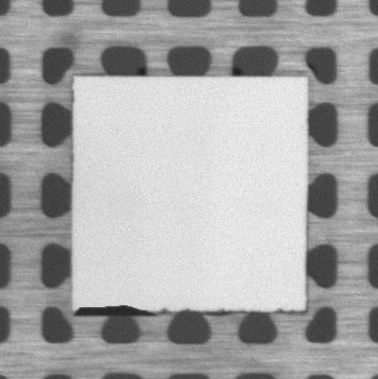DIE_BROKEN: (72, 303, 158, 316)
